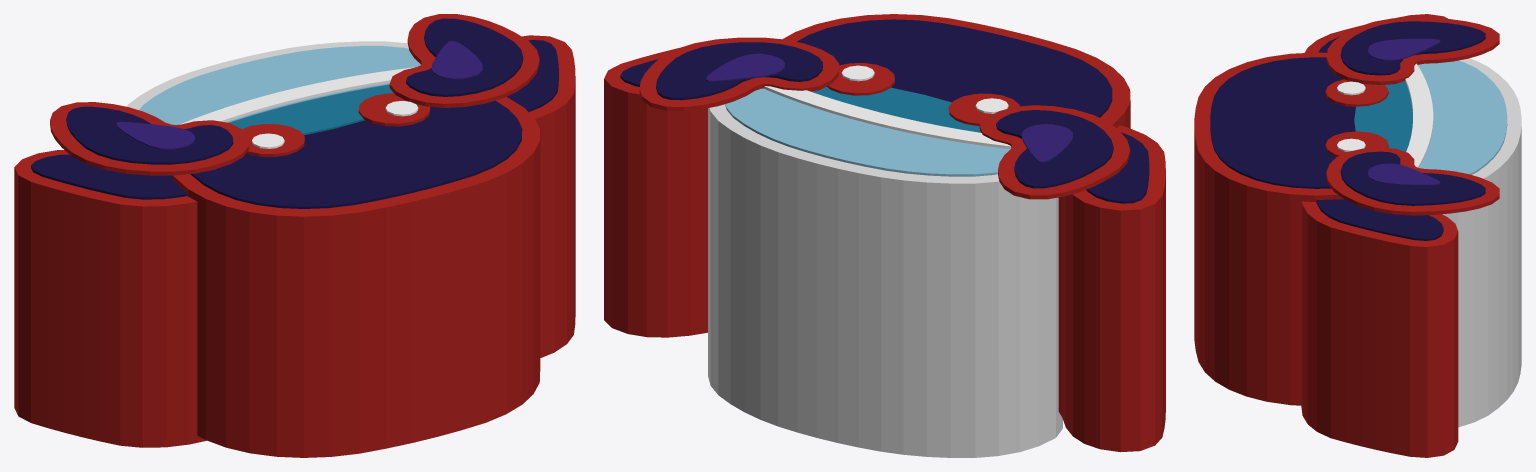
Rendered from bag_caranguejo.fbx.
3 renders of one model, left to right at view 1: azimuth 30°, elevation 25°; view 2: azimuth 150°, elevation 25°; view 3: azimuth 270°, elevation 25°, orthographic. The views are drawn at different scales.
Visible parts, largest first — view 1: bag_caranguejo_mochila; view 2: bag_caranguejo_mochila; view 3: bag_caranguejo_mochila.
Part boxes in pixels (x1,y1,x2,y2): bag_caranguejo_mochila: (14,14,575,457); bag_caranguejo_mochila: (604,14,1165,457); bag_caranguejo_mochila: (1194,14,1521,457).
Bounding box in the file's own units: 3.84 × 1.92 × 2.28.
1 material, 1 textured.
